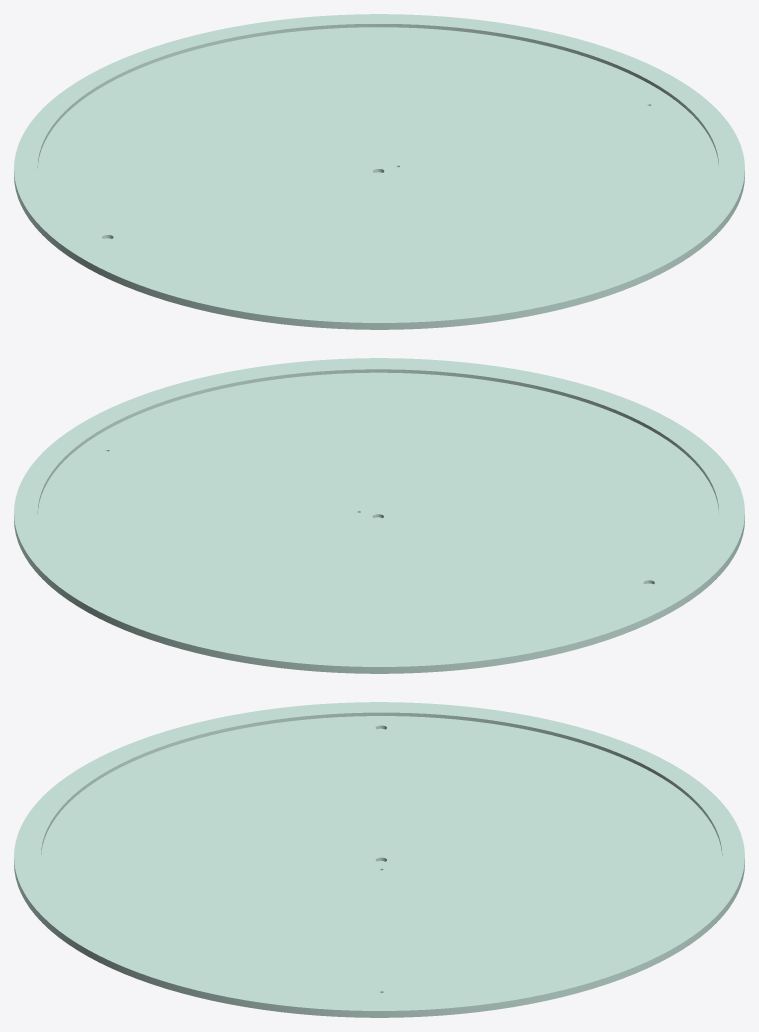
The picture shows the model from 3 angles, top to bottom: view 1: azimuth 30°, elevation 25°; view 2: azimuth 150°, elevation 25°; view 3: azimuth 270°, elevation 25°; orthographic projection.
Parts seen in each view (by area): view 1: Renderer Node; view 2: Renderer Node; view 3: Renderer Node.
Part boxes in pixels (x1,y1,x2,y2): Renderer Node: (14, 14, 744, 329); Renderer Node: (14, 358, 744, 673); Renderer Node: (14, 702, 744, 1017).
Bounding box in the file's own units: 1.52 × 0.0156 × 1.52.
